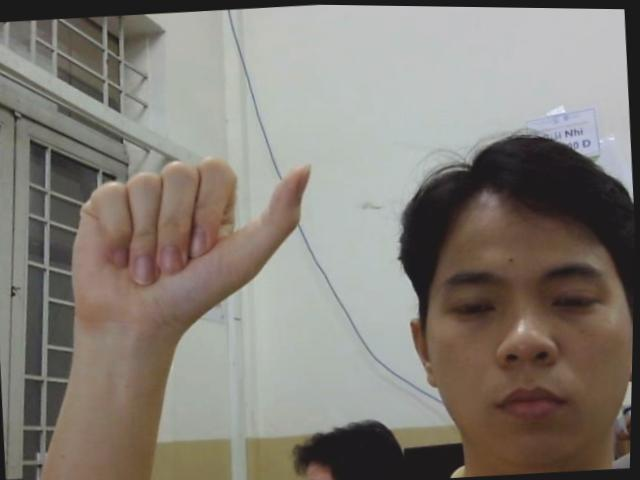A: (62, 150, 318, 325)
